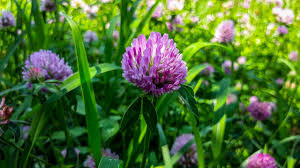clover blossom purple: (120, 29, 188, 98), (20, 48, 72, 95)
